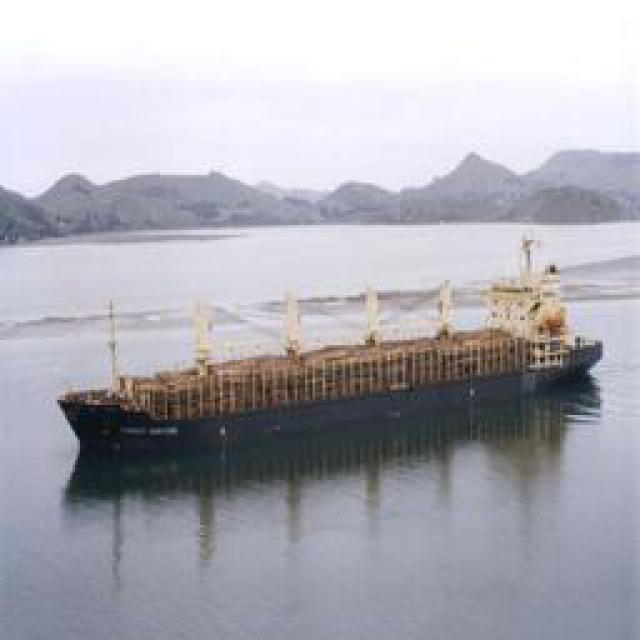Ship: (81, 294, 599, 424)
